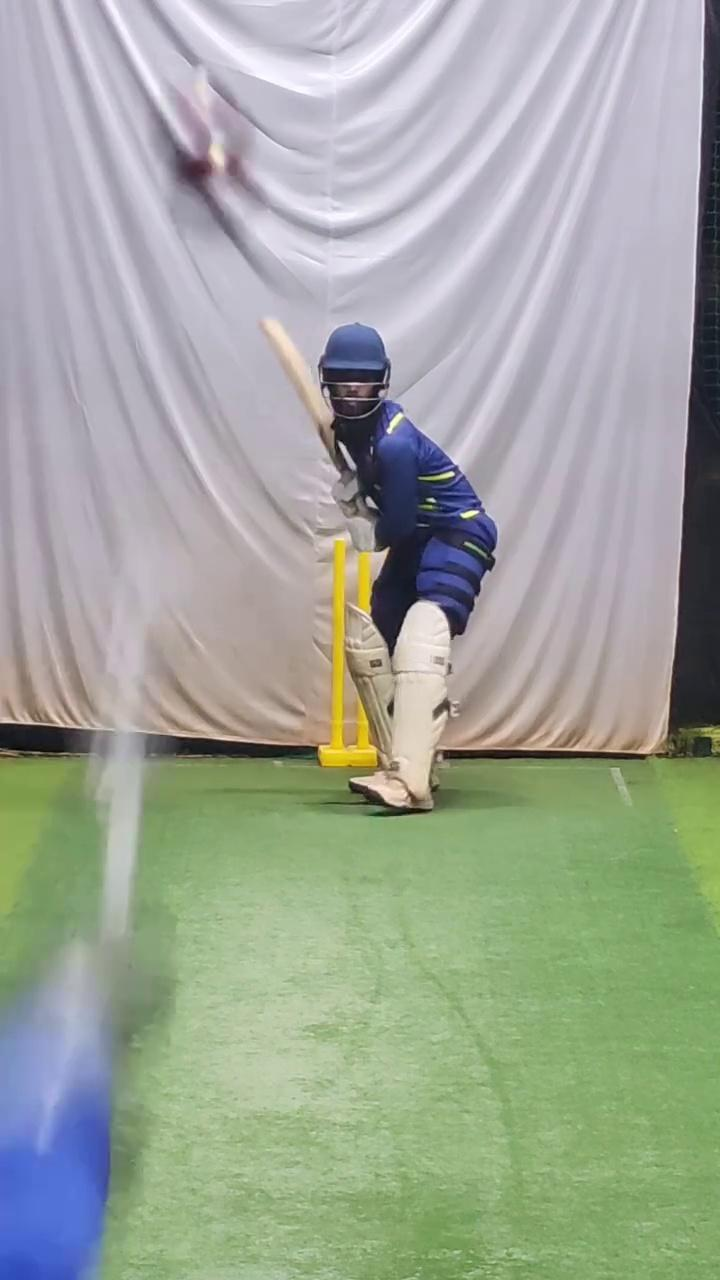bat: (255, 307, 350, 479)
